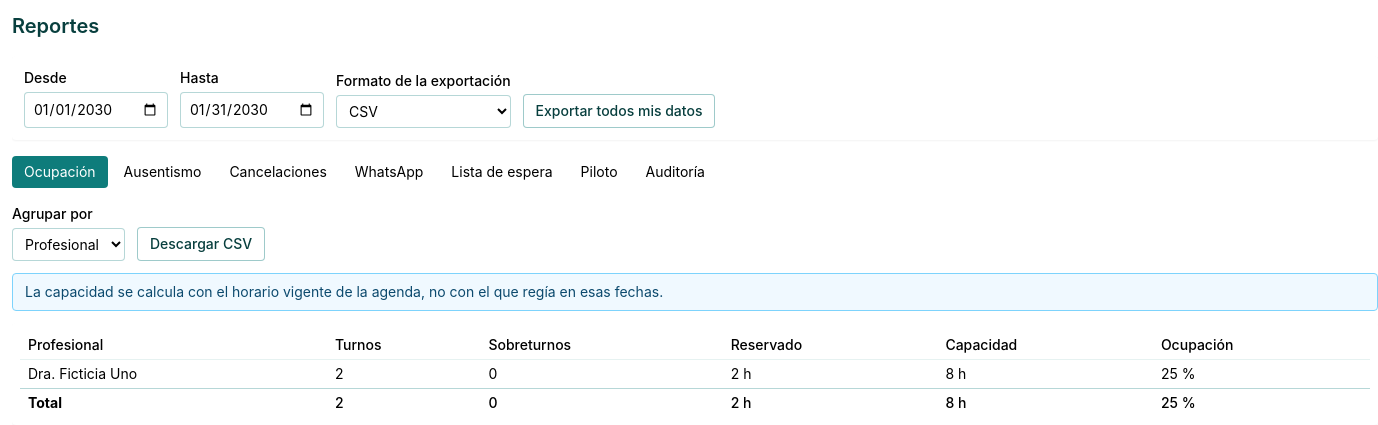
Scenario: ReportsPage › ausentismo separa «no vino», «ausente con aviso» y cancelación tardía
Click the tab "Ausentismo": (162, 172) top-left (112, 156), bottom-right (213, 188)
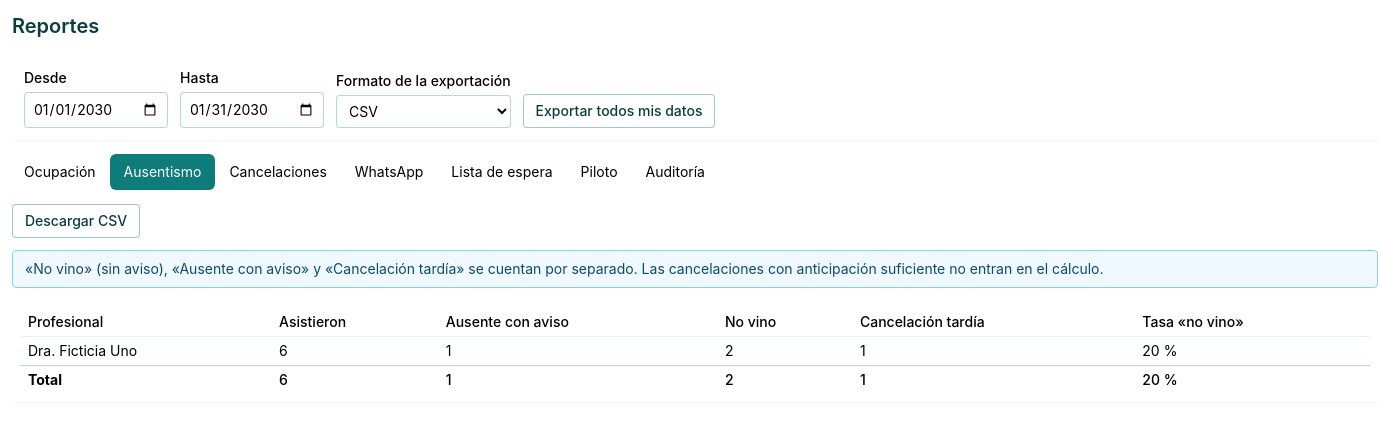
Check: the column headings read "Profesional", "Asistieron", "Ausente con aviso", "No vino", "Cancelación tardía", "Tasa «no vino»", in this order, box top-left (20, 308), bottom-right (271, 336); top-left (271, 308), bottom-right (438, 336); top-left (438, 308), bottom-right (717, 336); top-left (717, 308), bottom-right (852, 336); top-left (852, 308), bottom-right (1134, 336); top-left (1134, 308), bottom-right (1370, 336)
Check: the text "20 %" in the row of "Dra. Ficticia Uno" is shown, box top-left (1142, 342), bottom-right (1177, 359)
